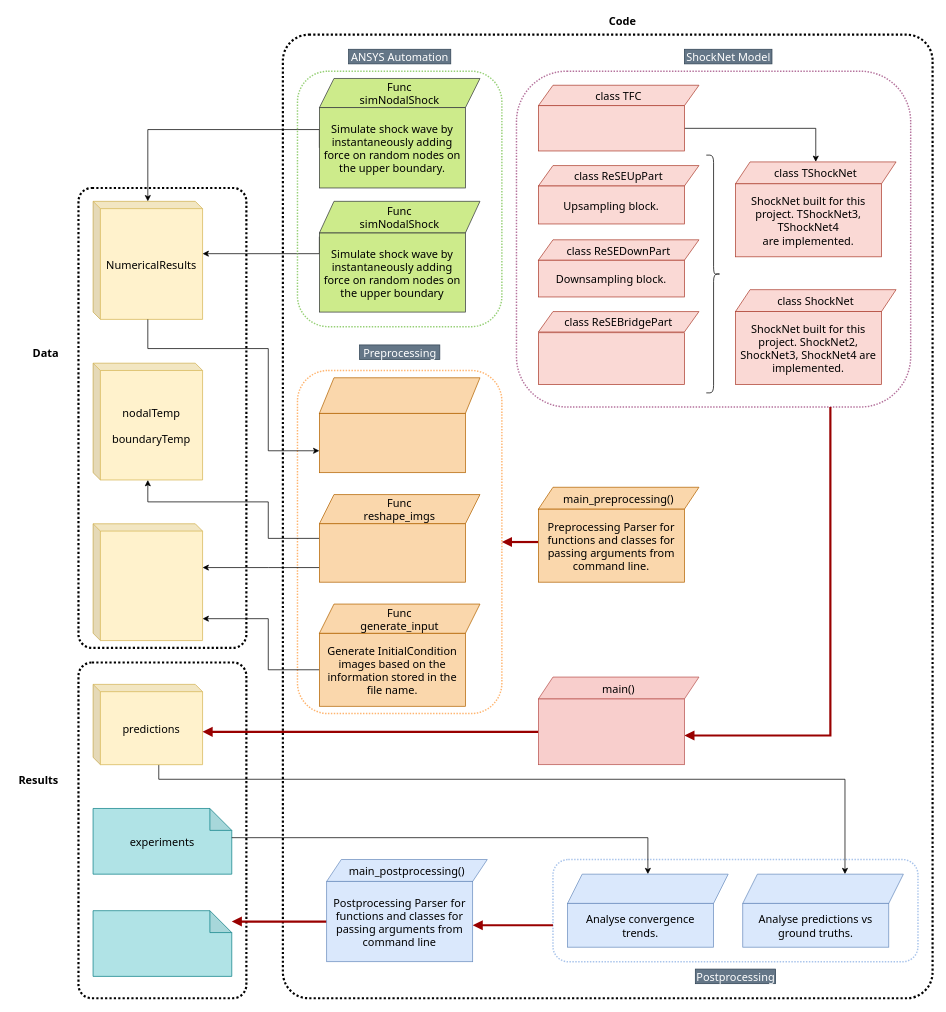
Image size: 946x1012. Some labels were removed from this diagram. The centre of each missing label's shape, as x and y in pixels:
"analysis" belongs at pixel 162 943.
"Bridge connecting Down and Up parts." belongs at pixel 611 358.
"Crop the raw numerical results from ANSYS and save as EPS files." belongs at pixel 392 443.
"Fully connecte layers for stress value predictions." belongs at pixel 611 128.
"Func analyse_epoch_series" belongs at pixel 647 888.
"Func analyse_shock_images" belongs at pixel 822 888.
"Func clean_numerical_results" belongs at pixel 399 395.
"Parser for training ShockNet and predicting results." belongs at pixel 611 731.
"Reshape results into different images." belongs at pixel 392 552.
"shock-datasets" belongs at pixel 147 582.
